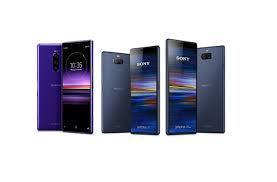sony: (162, 37, 229, 137), (36, 36, 94, 136), (100, 40, 158, 134)
